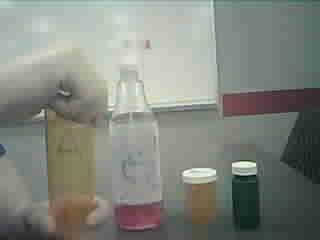Bottle A: (40, 75, 101, 237)
Bottle B: (178, 164, 219, 227)
Bottle C: (231, 159, 265, 229)
hazard: (106, 25, 168, 237)
